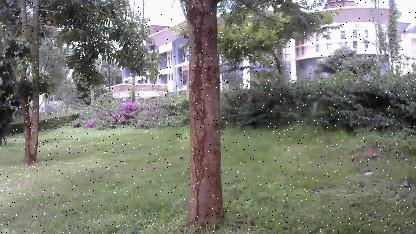tree: (1, 0, 151, 164), (174, 0, 233, 232)
